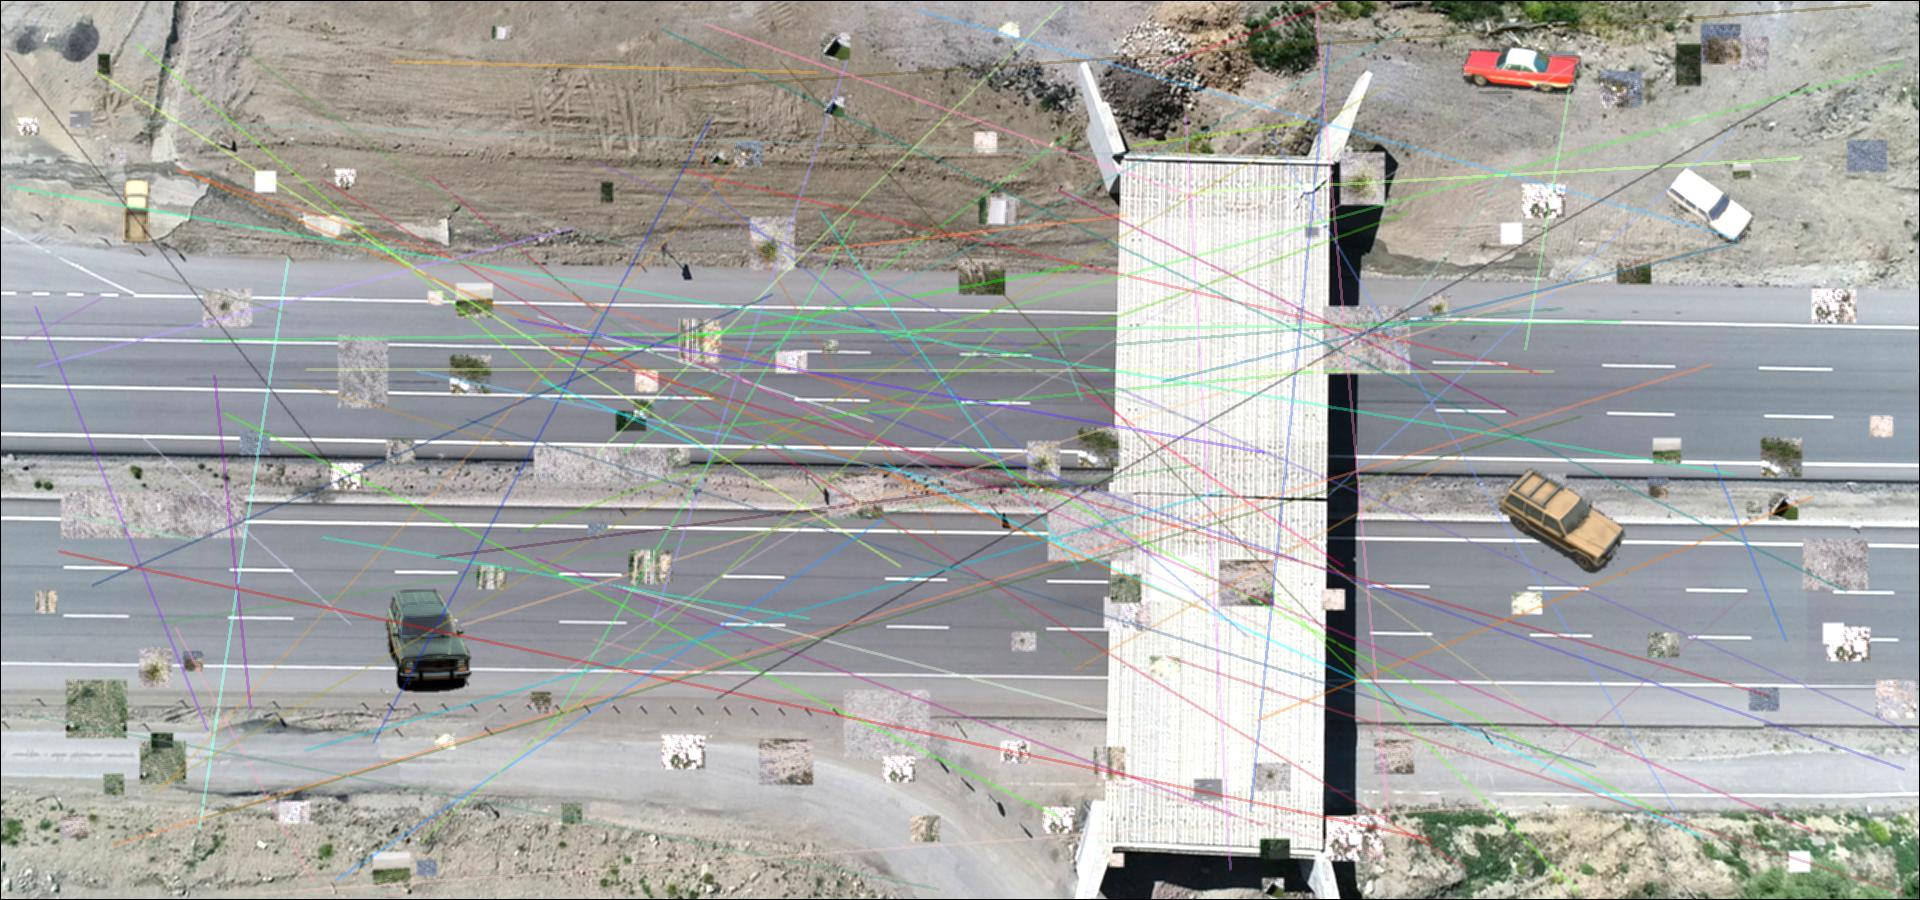arac: (1499, 464, 1629, 574), (381, 587, 471, 693), (1664, 169, 1753, 242), (1461, 48, 1584, 94), (120, 178, 152, 246)
